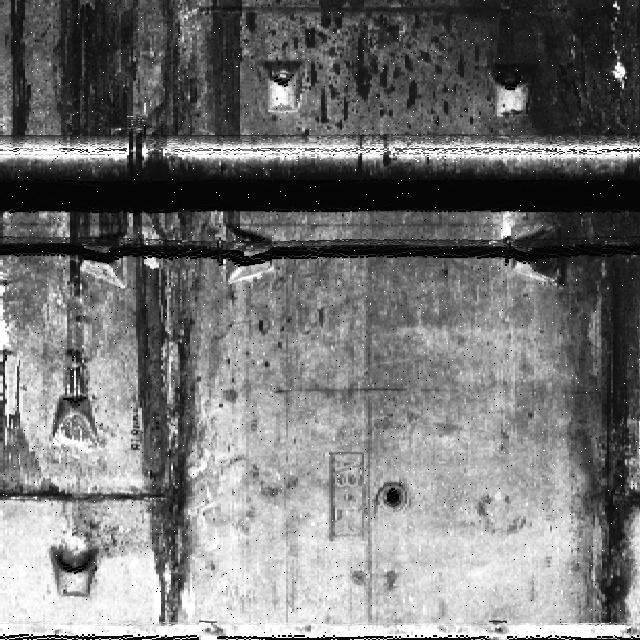leakage: (462, 4, 640, 640), (133, 1, 252, 636), (54, 1, 126, 318), (1, 344, 61, 508), (5, 3, 36, 148)
